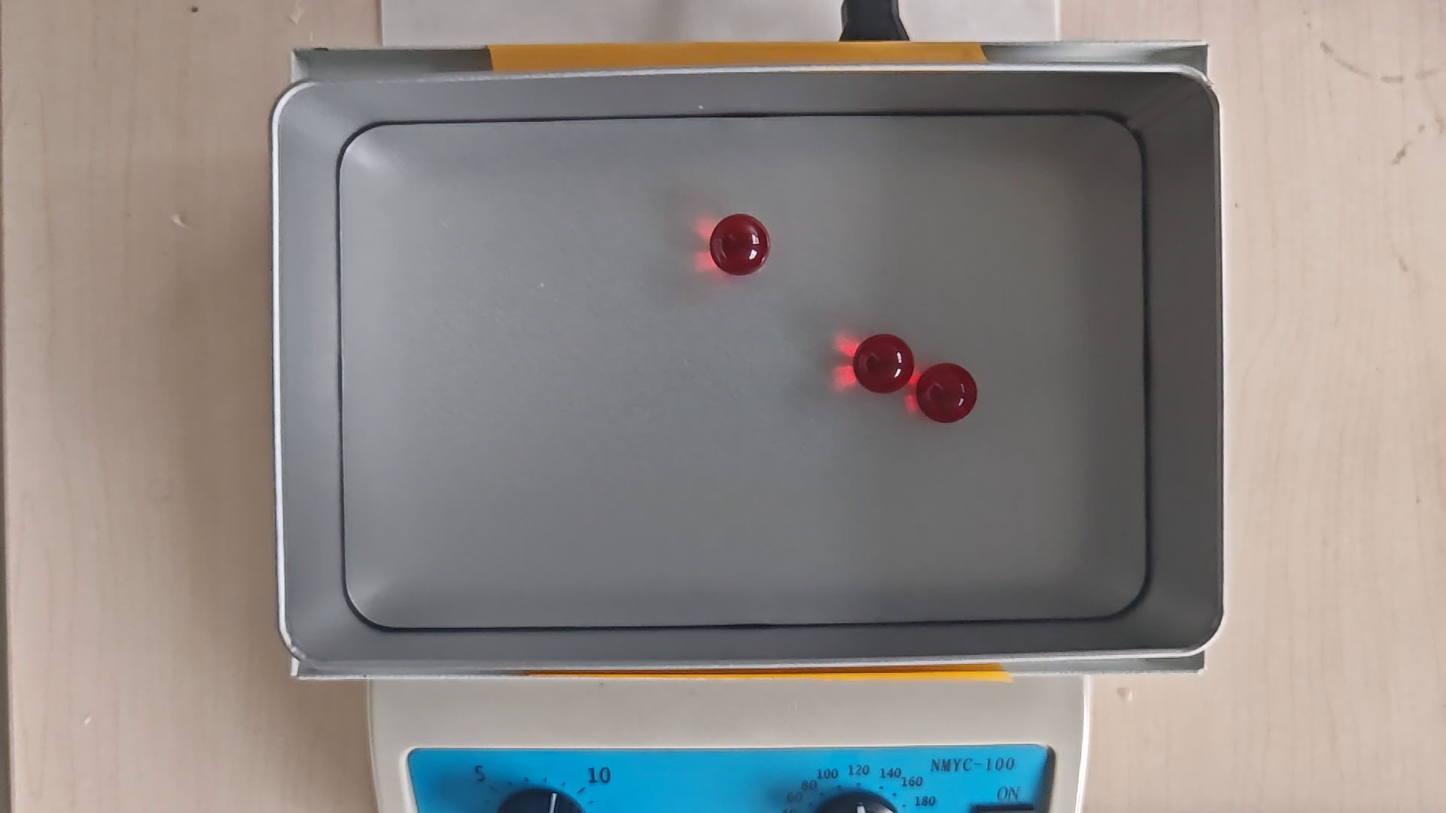ball: (914, 362, 979, 425), (709, 212, 770, 276), (853, 335, 914, 394)
container: (340, 114, 1147, 627)
